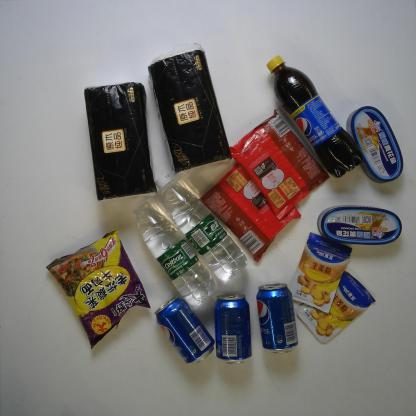Canned Food: (346, 106, 404, 184), (317, 205, 402, 245)
Dessert: (199, 153, 302, 263), (228, 109, 330, 220)
Drink: (266, 56, 364, 177), (154, 172, 248, 283), (130, 195, 218, 308), (154, 296, 214, 365), (256, 282, 298, 354), (214, 293, 252, 365)
Instant Noodles: (46, 229, 151, 351)
Seasoner: (297, 270, 376, 344), (289, 232, 352, 314)
Tissue: (148, 43, 232, 175), (84, 81, 158, 201)
